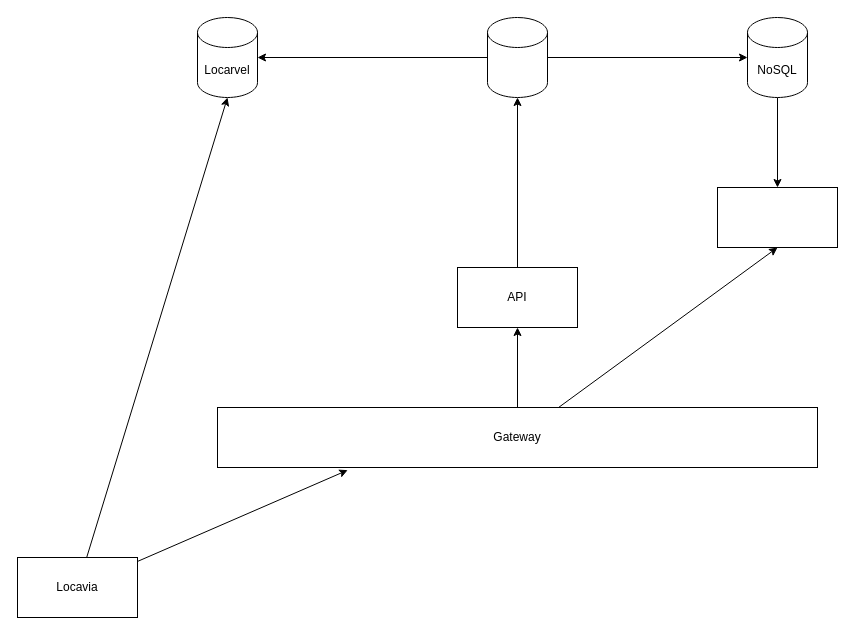
Some shapes in this 855 by 635 pixel diagram are drawn without their labels. The centre of each missing label's shape, as x and y in pixels:
"Data Lake" goes at (517,57).
"Microservice RC" goes at (777,217).
